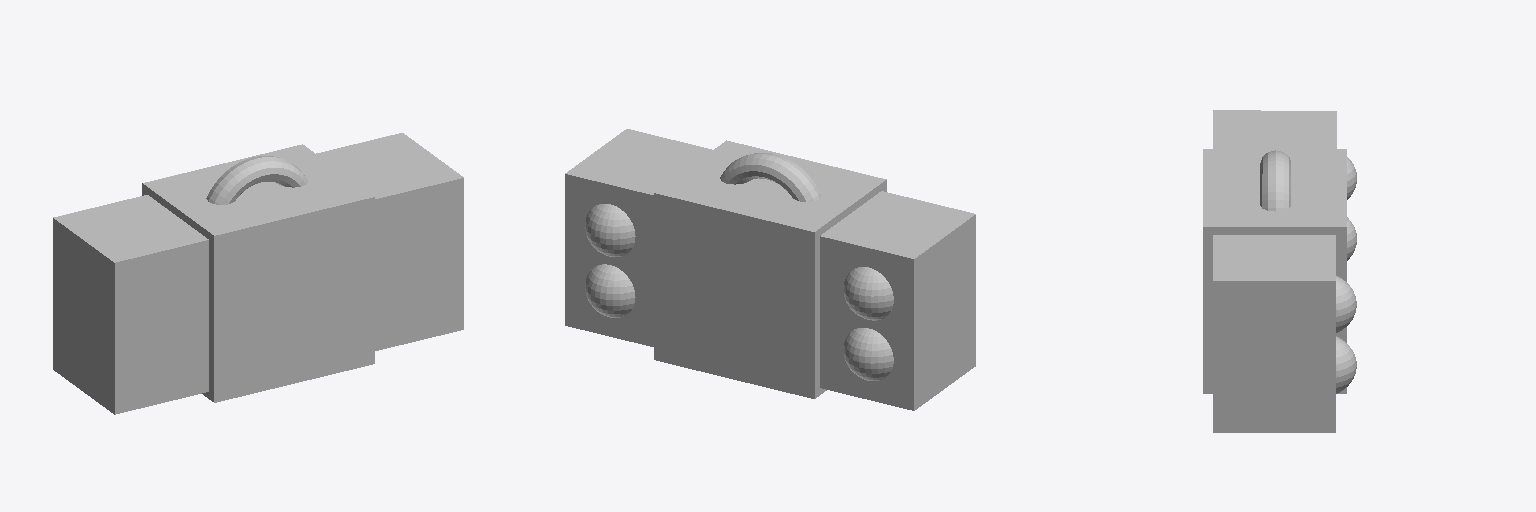
Rendered from radio.obj.
The picture shows the model from 3 angles: view 1: azimuth 30°, elevation 25°; view 2: azimuth 150°, elevation 25°; view 3: azimuth 270°, elevation 25°; orthographic projection.
Visible parts, largest first — view 1: Cube.002, Cube.004, Cube.003, Torus; view 2: Cube.002, Cube.004, Cube.003, Torus, Sphere.002_Sphere.007, Sphere.003_Sphere.008, Sphere_Sphere.000, Sphere.001_Sphere.006; view 3: Cube.003, Cube.002, Cube.004, Torus, Sphere.001_Sphere.006, Sphere.003_Sphere.008.
Boxes of the visible parts, <box> form: Cube.002: <box>142,144,374,402</box>; Cube.004: <box>53,195,208,414</box>; Cube.003: <box>316,133,463,350</box>; Torus: <box>206,156,307,204</box>; Cube.002: <box>654,140,886,398</box>; Cube.004: <box>820,191,975,410</box>; Cube.003: <box>565,129,712,346</box>; Torus: <box>720,153,821,201</box>; Sphere.002_Sphere.007: <box>843,267,893,320</box>; Sphere.003_Sphere.008: <box>585,264,635,317</box>; Sphere_Sphere.000: <box>843,328,893,380</box>; Sphere.001_Sphere.006: <box>585,204,635,256</box>; Cube.003: <box>1213,235,1335,432</box>; Cube.002: <box>1203,149,1346,393</box>; Cube.004: <box>1213,110,1336,148</box>; Torus: <box>1260,150,1290,211</box>; Sphere.001_Sphere.006: <box>1336,276,1356,332</box>; Sphere.003_Sphere.008: <box>1336,336,1356,393</box>.
Size of the model in its own units: 0.7504 by 0.4074 by 0.2875.